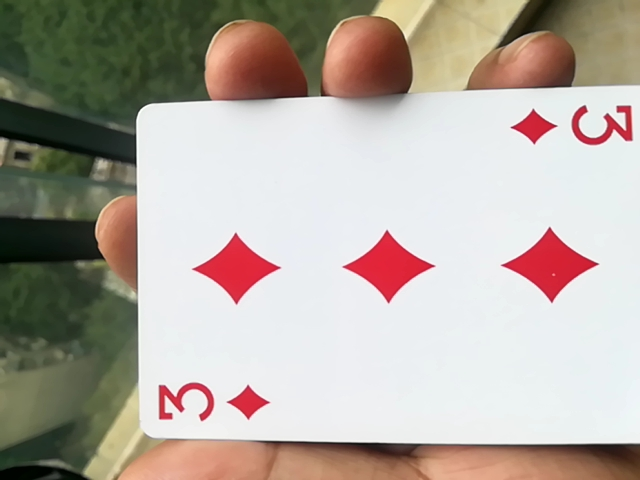fk 3: (125, 107, 633, 470)
